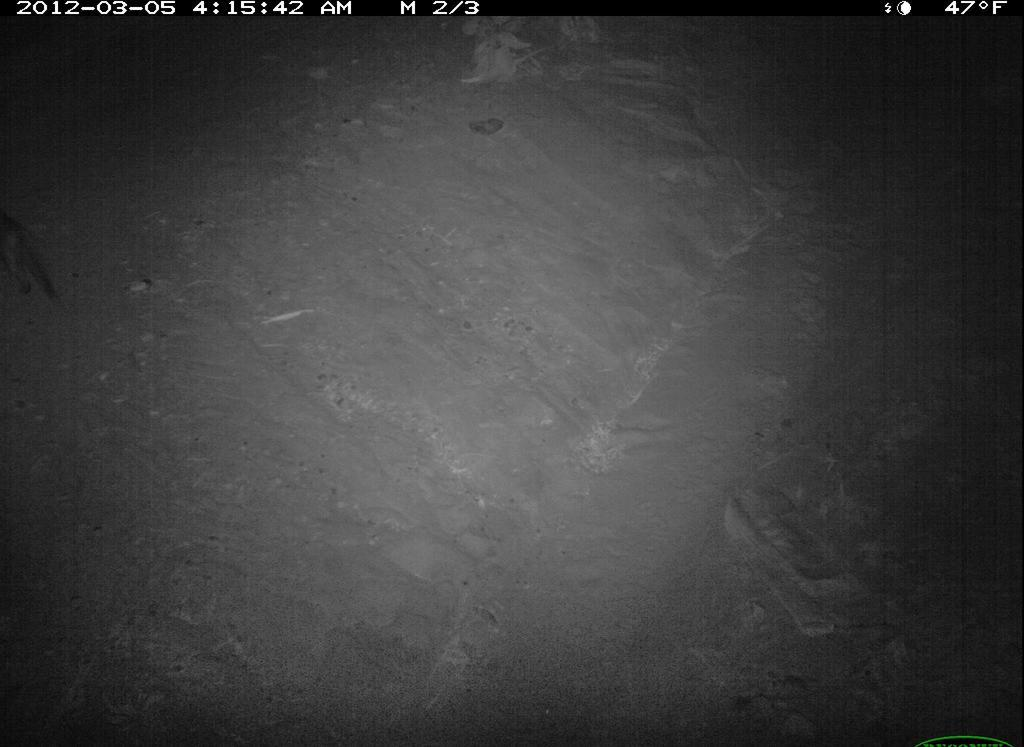cat: (1, 207, 67, 311)
